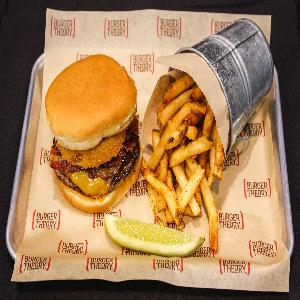cheeseburger_475cal: (38, 45, 141, 219)
fries_350cal: (146, 47, 230, 224)
